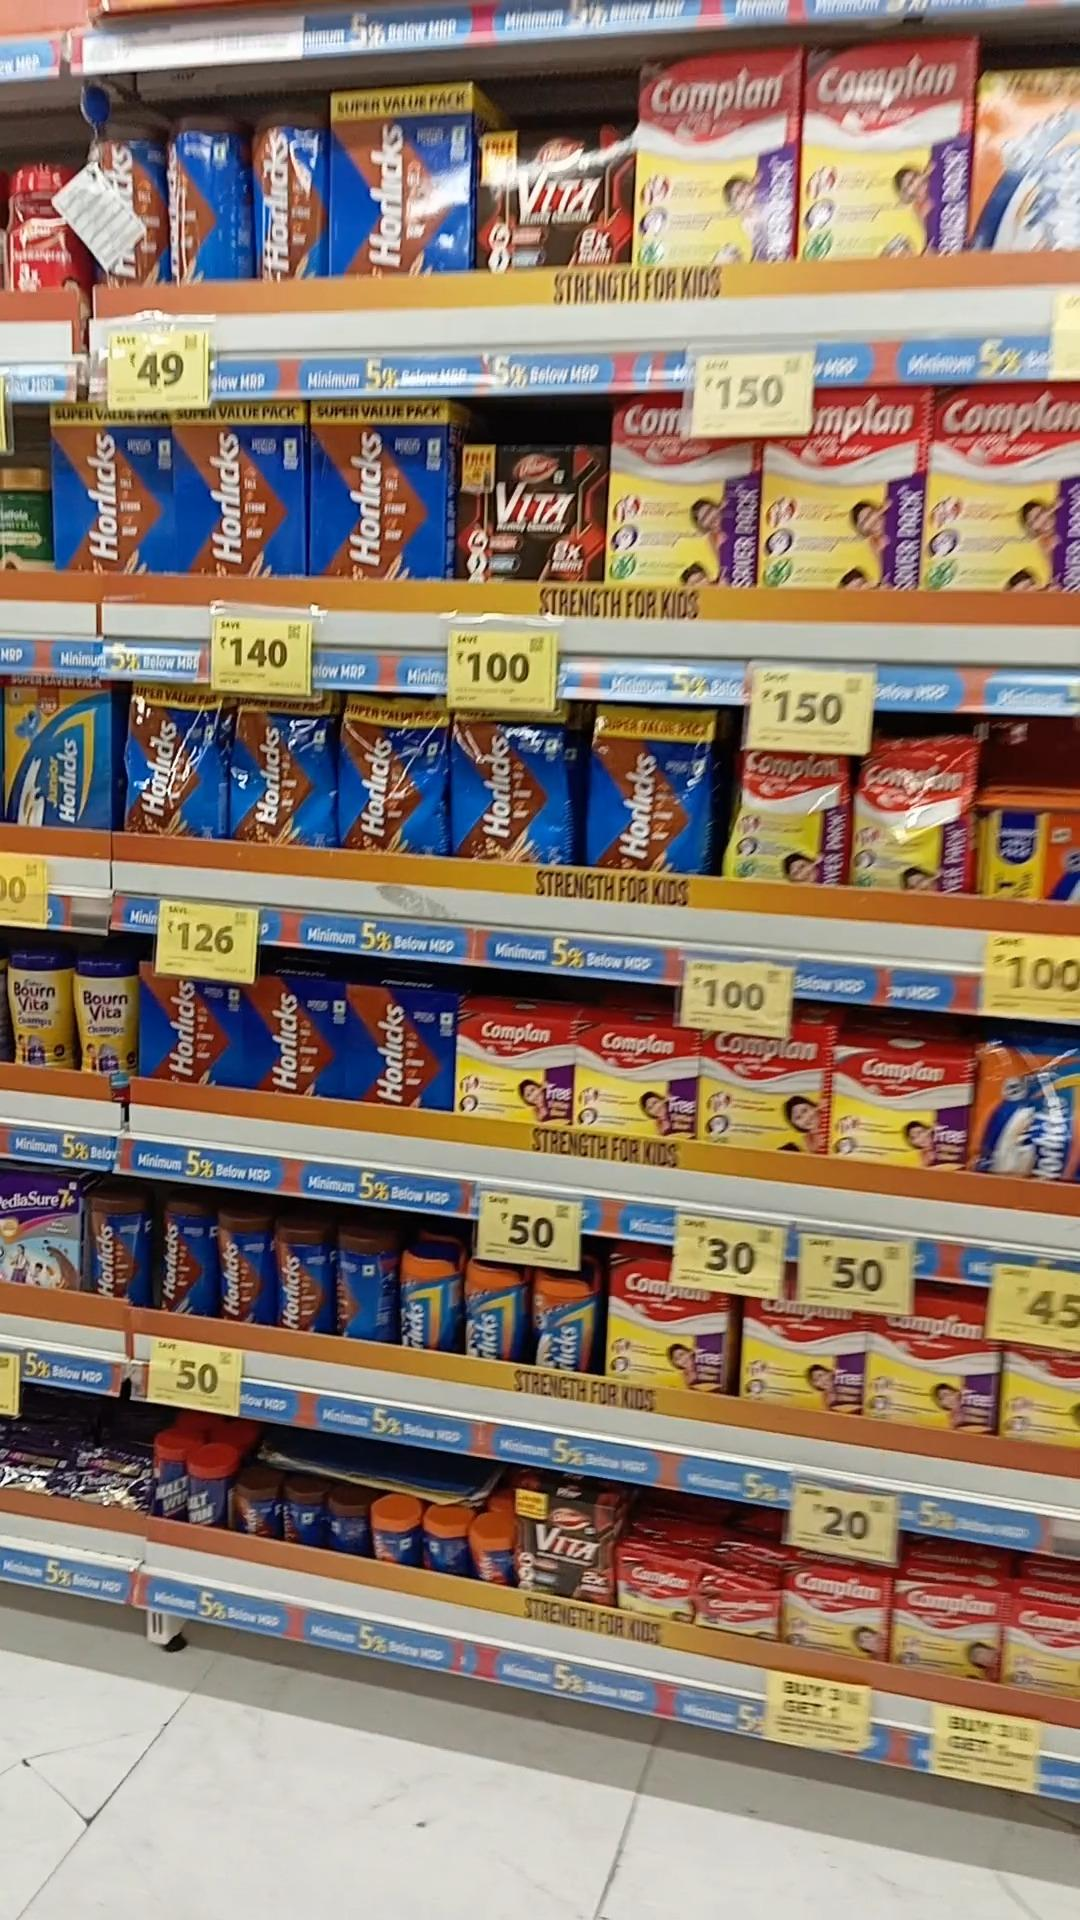BOURN_VITA_CHAMPS_500_G_JAR: (5, 947, 71, 1064), (75, 959, 135, 1087)
COMPLAN_CHOCOLATE_1_KG_PACK: (804, 44, 965, 257), (762, 384, 922, 592), (638, 57, 795, 265), (928, 384, 1080, 593), (609, 402, 744, 584)
COMPLAN_CHOCOLATE_200_GMS_PACK: (785, 1565, 886, 1658)
COMPLAN_CHOCOLATE_500_GMS_PACK: (605, 1251, 721, 1396), (576, 1021, 698, 1143), (455, 1013, 567, 1131)
COMPLAN_CREAMY_CLASSIC_500_G_PACK: (827, 1046, 971, 1168)
COMPLAN_KESAR_BADAM_200_GMS_PACK: (894, 1585, 1001, 1679)
COMPLAN_RC_POUCH_700_GMS_12: (862, 729, 972, 881), (733, 753, 841, 887)
HORLICK_CHOCOLATE_1_KG_JAR: (88, 109, 165, 281), (165, 113, 239, 278), (252, 109, 322, 282)
HORLICK_CHOCOLATE_1_KG_PACK: (327, 88, 467, 273), (313, 397, 443, 576), (179, 405, 307, 572), (46, 409, 174, 571)
HORLICK_CHOCOLATE_500_G_JAR: (86, 1185, 146, 1315), (214, 1212, 268, 1324), (277, 1225, 328, 1333), (158, 1196, 204, 1315)
HORLICK_CHOCOLATE_500_G_PACK: (347, 981, 452, 1110), (251, 975, 347, 1102), (146, 973, 247, 1089)
HORLICK_CHOCOLATE_750_G_POUCH: (592, 700, 711, 872), (336, 696, 451, 852), (458, 708, 564, 866), (225, 695, 328, 853), (123, 683, 211, 836)
HORLICK_CLASSIC_MALT_500_G_JAR: (531, 1251, 593, 1374), (398, 1244, 462, 1360), (467, 1253, 527, 1361)
HORLICK_CLASSIC_MALT_500_G_PACK: (972, 70, 1080, 255)
HORLICK_CLASSIC_MALT_750_G_POUCH: (977, 1040, 1077, 1182)
PEDIASURE_7_PLUS_CHOCOLATE_400_G_PACK: (0, 1170, 78, 1291)
